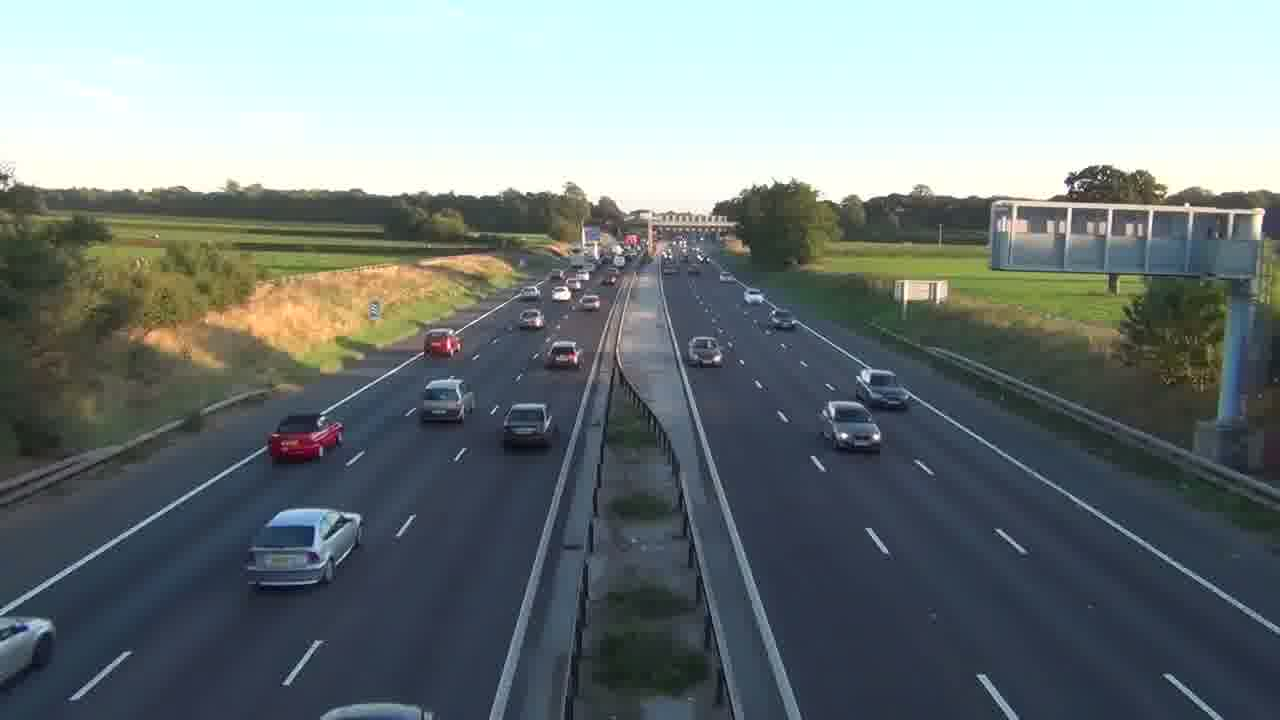car: (242, 506, 364, 590), (0, 614, 55, 689), (266, 413, 344, 463), (817, 399, 883, 453), (502, 401, 558, 450), (419, 377, 473, 423), (854, 367, 909, 410), (544, 338, 582, 370), (688, 336, 724, 367)
